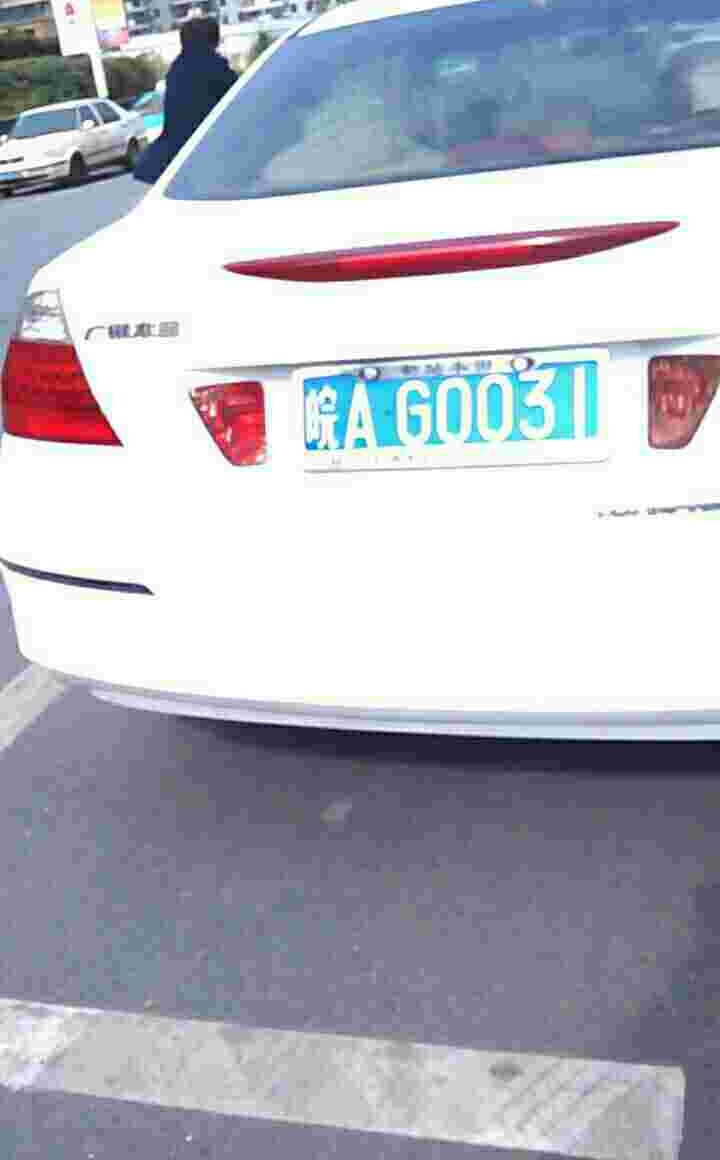license_plate: (301, 356, 593, 455)
